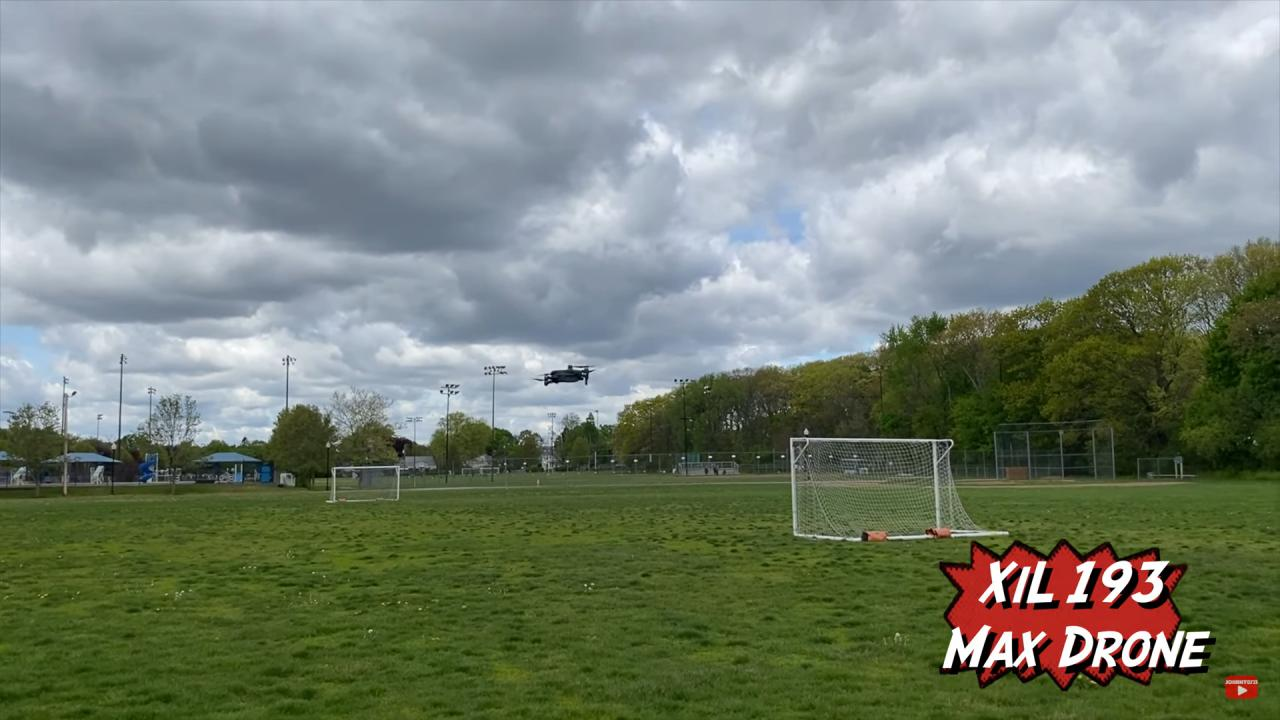Drone: (525, 356, 605, 394)
